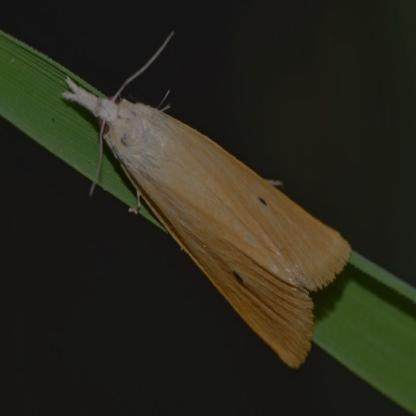stem-borer: (61, 29, 352, 371)
